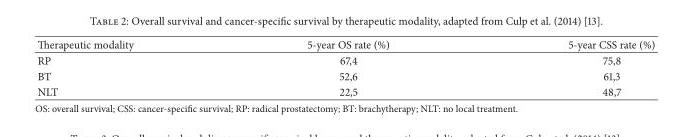table: (36, 36, 654, 98)
table column: (219, 36, 478, 98), (36, 36, 219, 98), (478, 36, 654, 98)
table column header: (36, 36, 654, 52)
table row: (36, 36, 654, 52), (36, 67, 654, 83), (36, 52, 654, 67), (36, 83, 654, 98)
